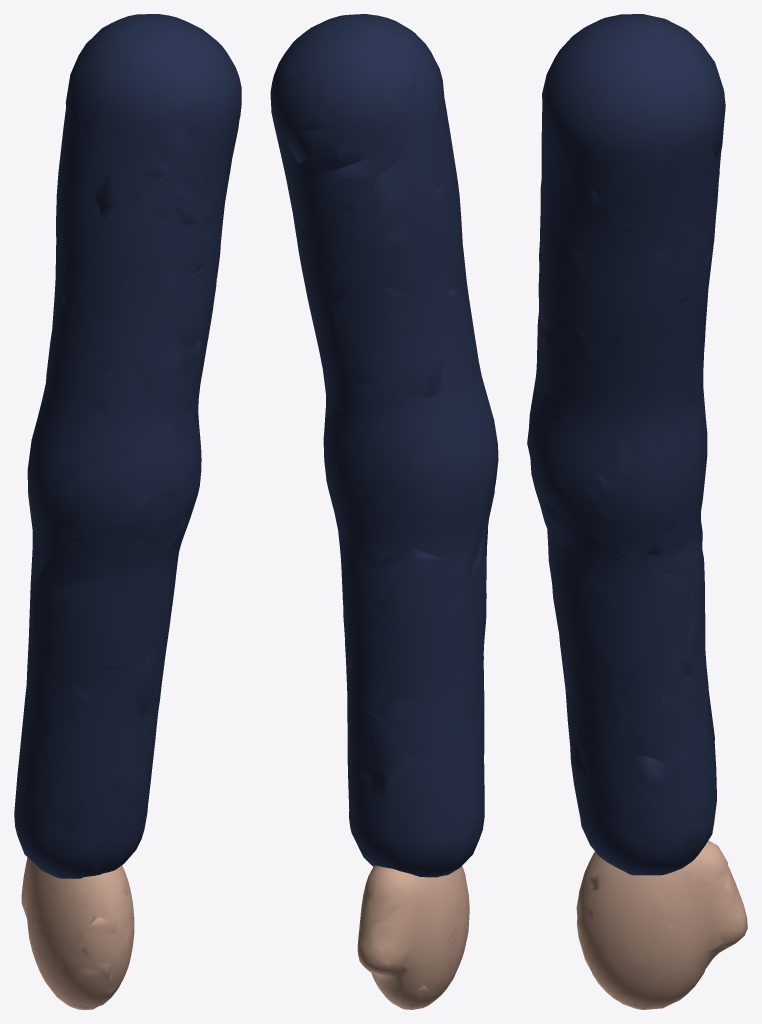
Rendered from engineer_arm_l.obj.
3 renders of one model, left to right at view 1: azimuth 30°, elevation 25°; view 2: azimuth 150°, elevation 25°; view 3: azimuth 270°, elevation 25°, orthographic. The views are drawn at different scales.
Parts seen in each view (by area): view 1: sleeve, skin; view 2: sleeve, skin; view 3: sleeve, skin.
Boxes of the visible parts, box(x1,y1,x2,y2) form: sleeve: box(14, 14, 241, 878); skin: box(21, 857, 134, 1009); sleeve: box(270, 14, 498, 877); skin: box(357, 865, 469, 1009); sleeve: box(527, 14, 725, 875); skin: box(576, 840, 747, 1009).
Size of the model in its own units: 0.1541 by 0.7128 by 0.1401.
